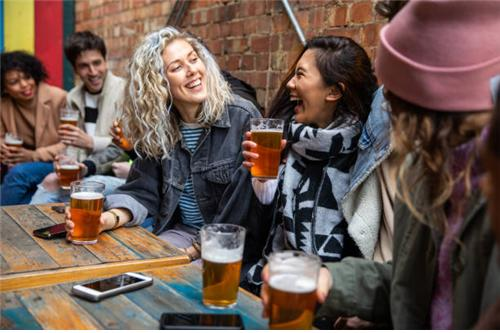alcohol: (263, 251, 319, 327), (201, 223, 243, 309), (249, 116, 286, 181), (68, 179, 99, 245), (55, 156, 80, 190), (4, 135, 21, 162)
